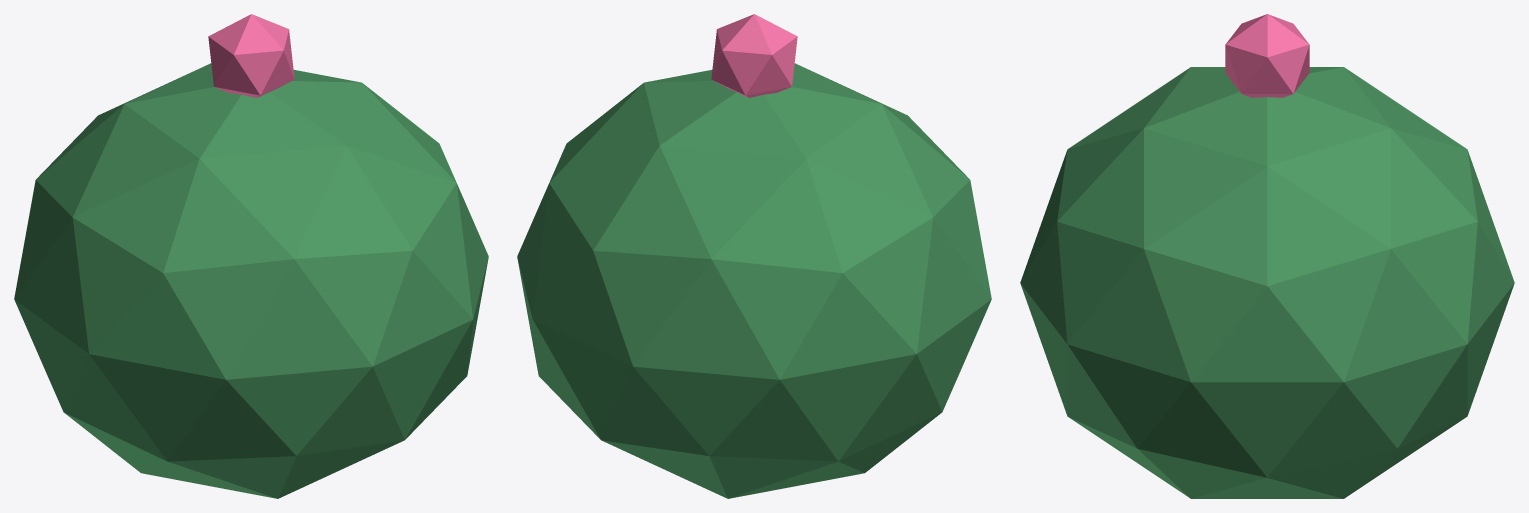
Rendered from barrel_cactus.fbx.
3 renders of one model, left to right at view 1: azimuth 30°, elevation 25°; view 2: azimuth 150°, elevation 25°; view 3: azimuth 270°, elevation 25°, orthographic.
Parts seen in each view (by area): view 1: barrel_cactus; view 2: barrel_cactus; view 3: barrel_cactus.
Part boxes in pixels (box(x1,y1,x2,y2)): barrel_cactus: box(14, 14, 488, 498); barrel_cactus: box(517, 14, 991, 498); barrel_cactus: box(1020, 14, 1514, 498).
Bounding box in the file's own units: 0.7608 × 0.84 × 0.8.
